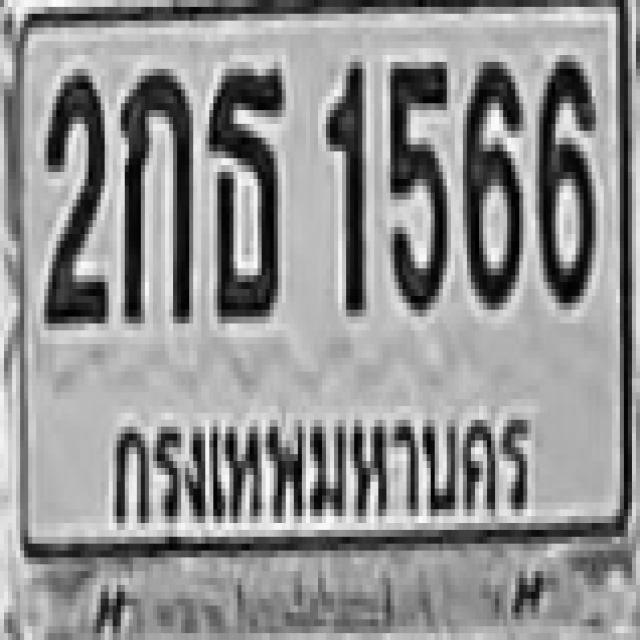1: (322, 55, 362, 310)
10GorGai: (117, 62, 189, 316)
2: (40, 65, 105, 320)
33ThorThong: (205, 62, 282, 316)
5: (386, 55, 443, 310)
6: (461, 55, 521, 303), (535, 55, 592, 303)
Bangkok: (92, 382, 534, 538)
